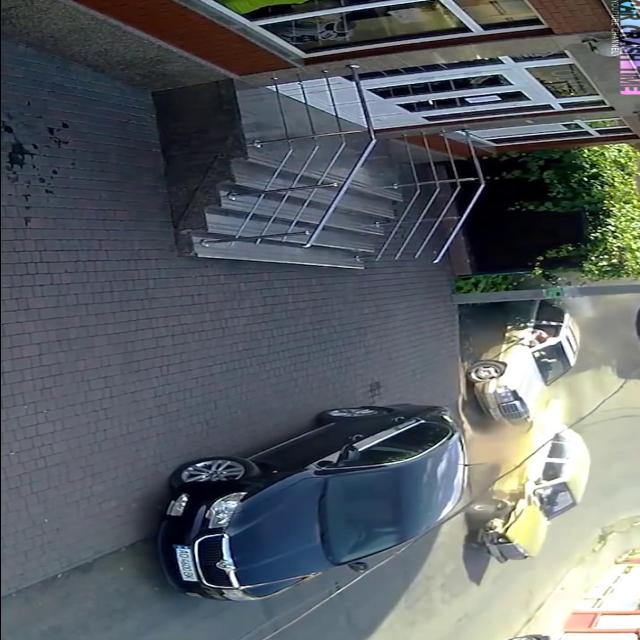accident: (462, 298, 598, 566)
